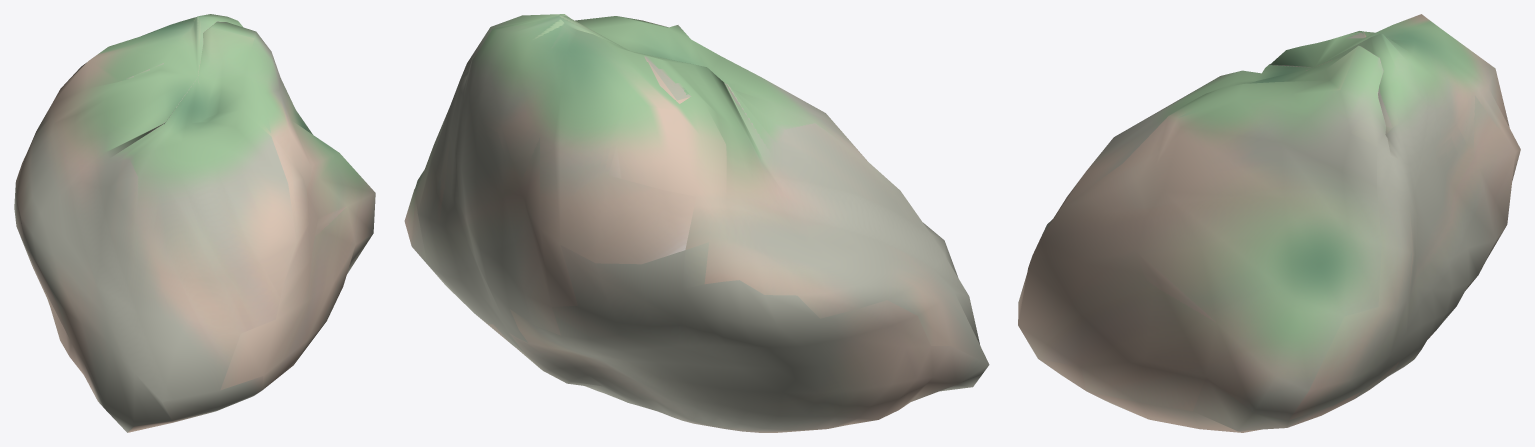
File: StoneHuge.fbx
The picture shows the model from 3 angles, left to right: view 1: azimuth 30°, elevation 25°; view 2: azimuth 150°, elevation 25°; view 3: azimuth 270°, elevation 25°; orthographic projection. The views are drawn at different scales.
Visible parts, largest first — view 1: StoneBigger_LOD0; view 2: StoneBigger_LOD0; view 3: StoneBigger_LOD0.
Part boxes in pixels (left/top/right/bottom): StoneBigger_LOD0: left=14, top=14, right=375, bottom=432; StoneBigger_LOD0: left=404, top=14, right=989, bottom=432; StoneBigger_LOD0: left=1018, top=14, right=1520, bottom=432.
Size of what is drawn, in the model's own units: 446 by 375 by 423.
Materials: 1 (1 with a texture image).
